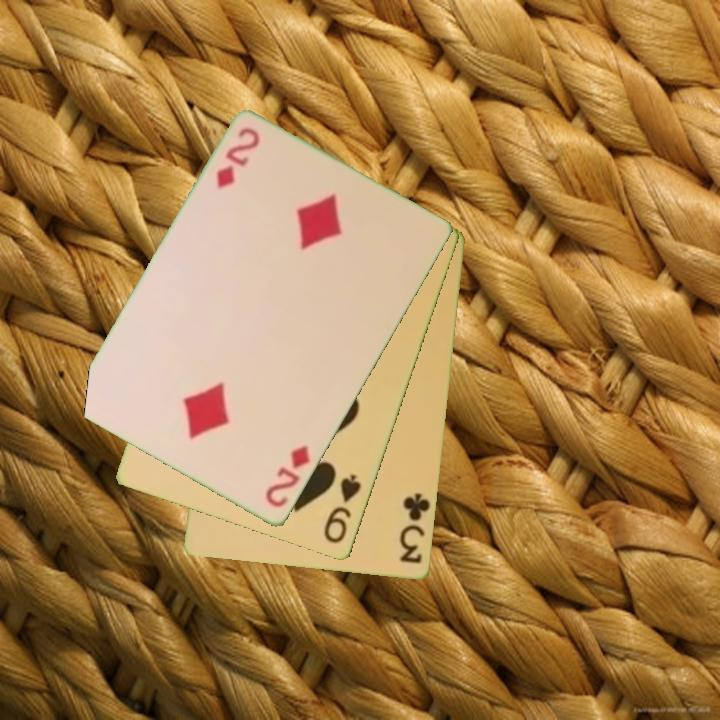2d: (262, 442, 313, 511), (213, 124, 263, 192)
3c: (396, 489, 434, 567)
9s: (320, 471, 365, 547)
